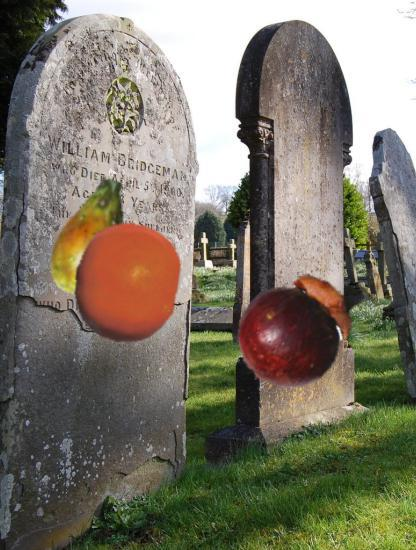Cactus: (30, 175, 156, 301)
Clementine: (65, 222, 188, 345)
Mangostan: (230, 262, 364, 396)
